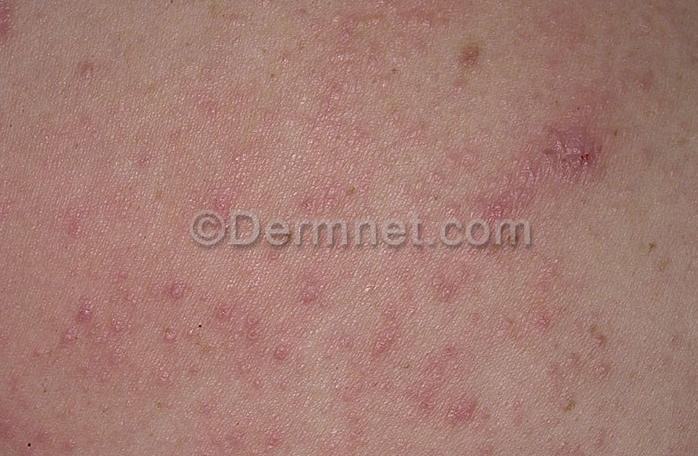exudacion 1: (557, 134, 608, 175)
